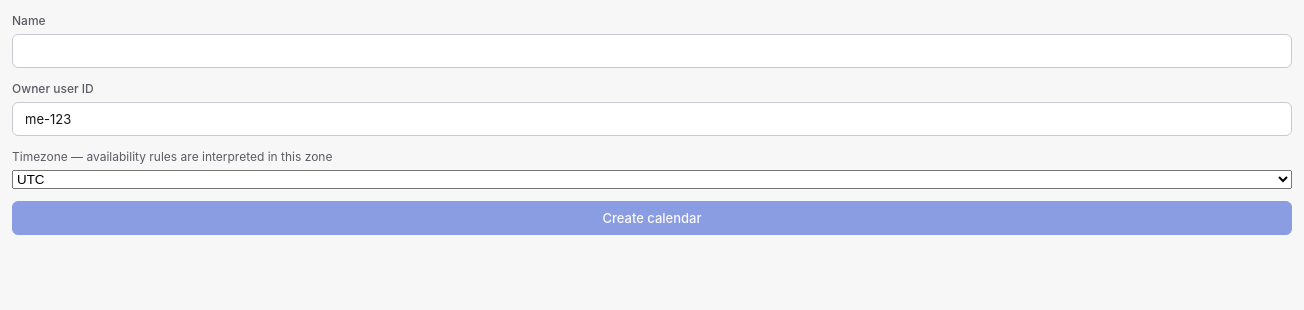
Test case: CalendarForm › surfaces the backend's own validation error verbatim
Type "Bad zone" into the field labelled "Name" at [652, 51], box [12, 34, 1292, 68]
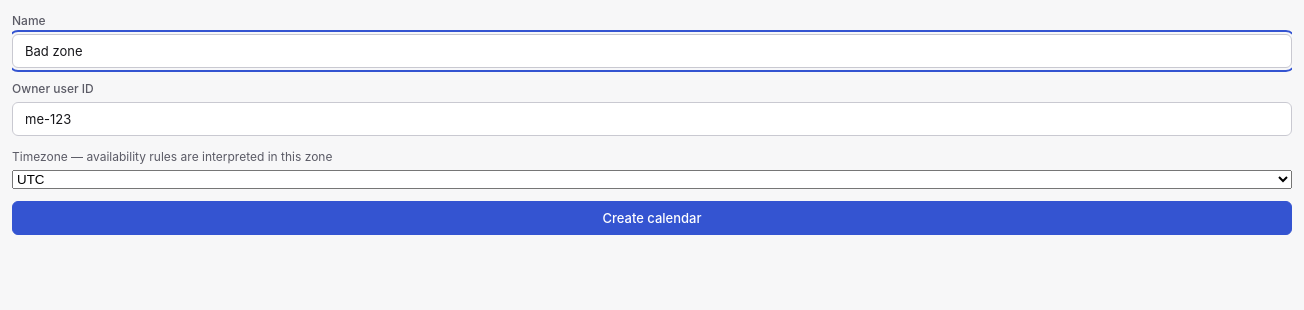
Click the button "Create calendar" at [652, 218], box [12, 201, 1292, 235]
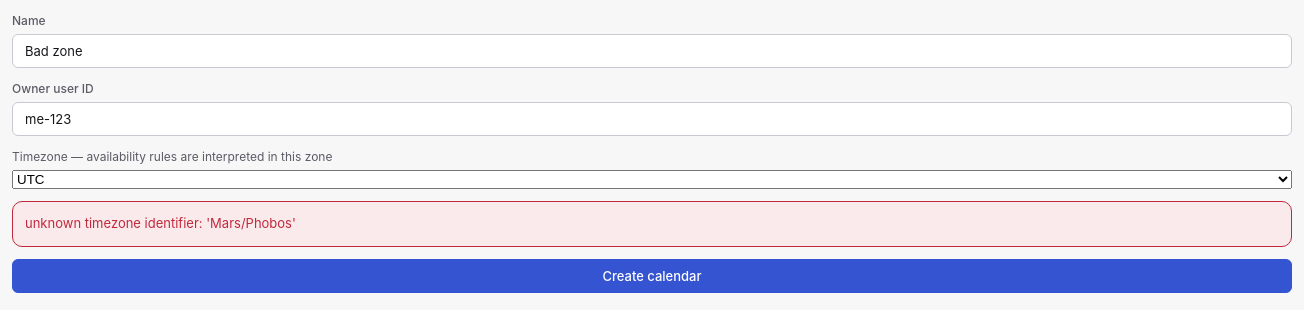
Result: the text "unknown timezone identifier: 'Mars/Phobos'" is shown at [25, 215, 296, 231]
